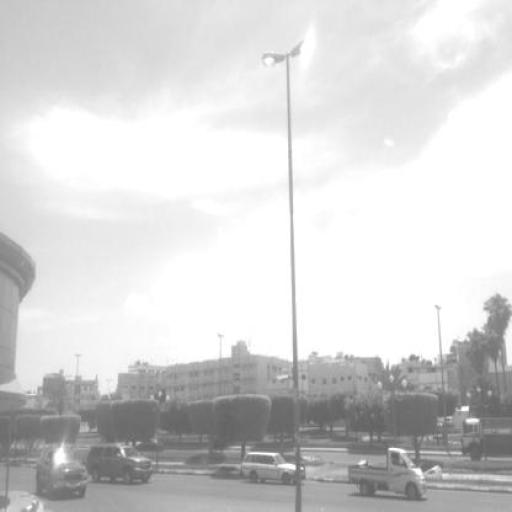street light: (260, 35, 314, 512), (434, 303, 448, 453), (216, 332, 226, 446)
